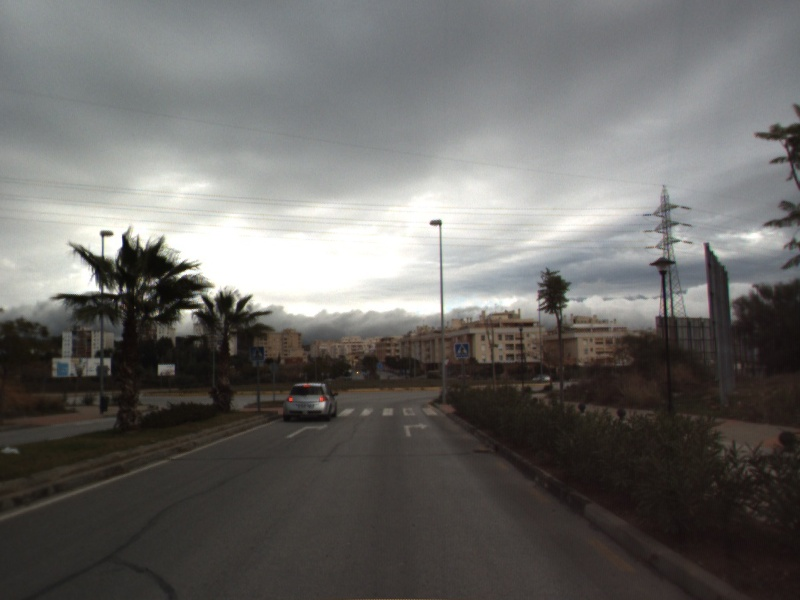RIGHT: (283, 422, 330, 440), (401, 420, 430, 439)
